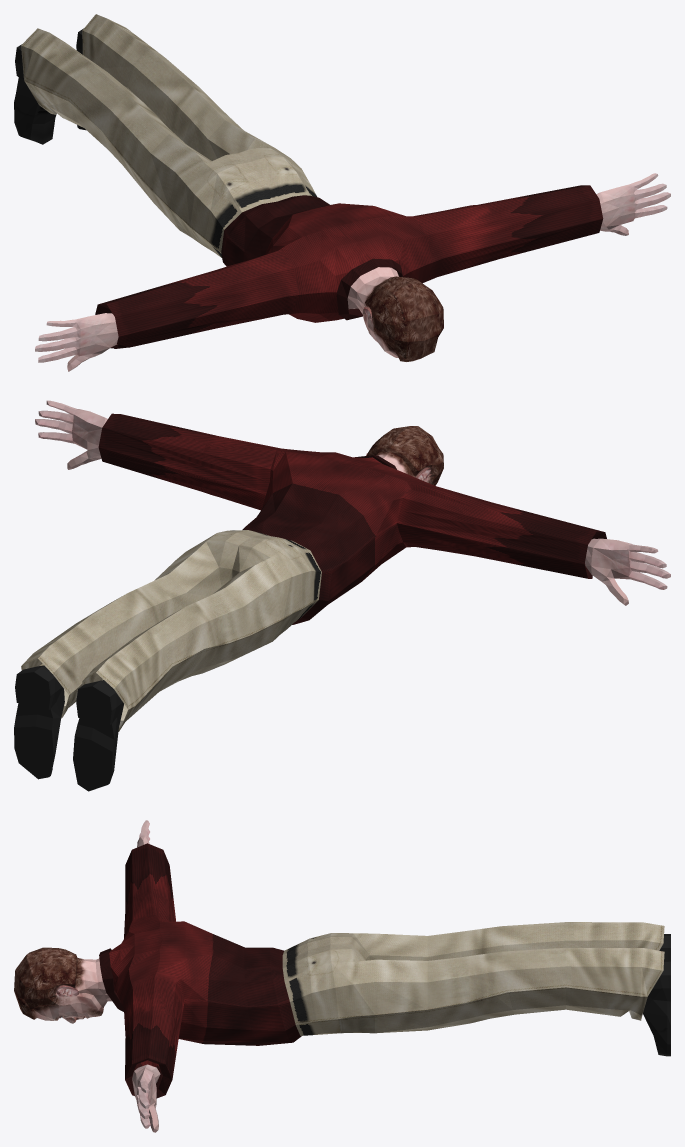
Rendered from tomdrinman1longsleave_wtf.obj.
The picture shows the model from 3 angles, top to bottom: view 1: azimuth 30°, elevation 25°; view 2: azimuth 150°, elevation 25°; view 3: azimuth 270°, elevation 25°; orthographic projection. The views are drawn at different scales.
Visible parts, largest first — view 1: group1, group2, group3; view 2: group1, group2, group3; view 3: group1, group3.
Boxes of the visible parts, left/top/right/bottom form: group1: left=14, top=14, right=603, bottom=361; group2: left=35, top=313, right=118, bottom=371; group3: left=596, top=173, right=670, bottom=235; group1: left=14, top=413, right=606, bottom=791; group2: left=585, top=538, right=670, bottom=605; group3: left=35, top=400, right=107, bottom=469; group1: left=14, top=843, right=670, bottom=1098; group3: left=132, top=1064, right=160, bottom=1132.
Bounding box in the file's own units: 660 × 121 × 650.
